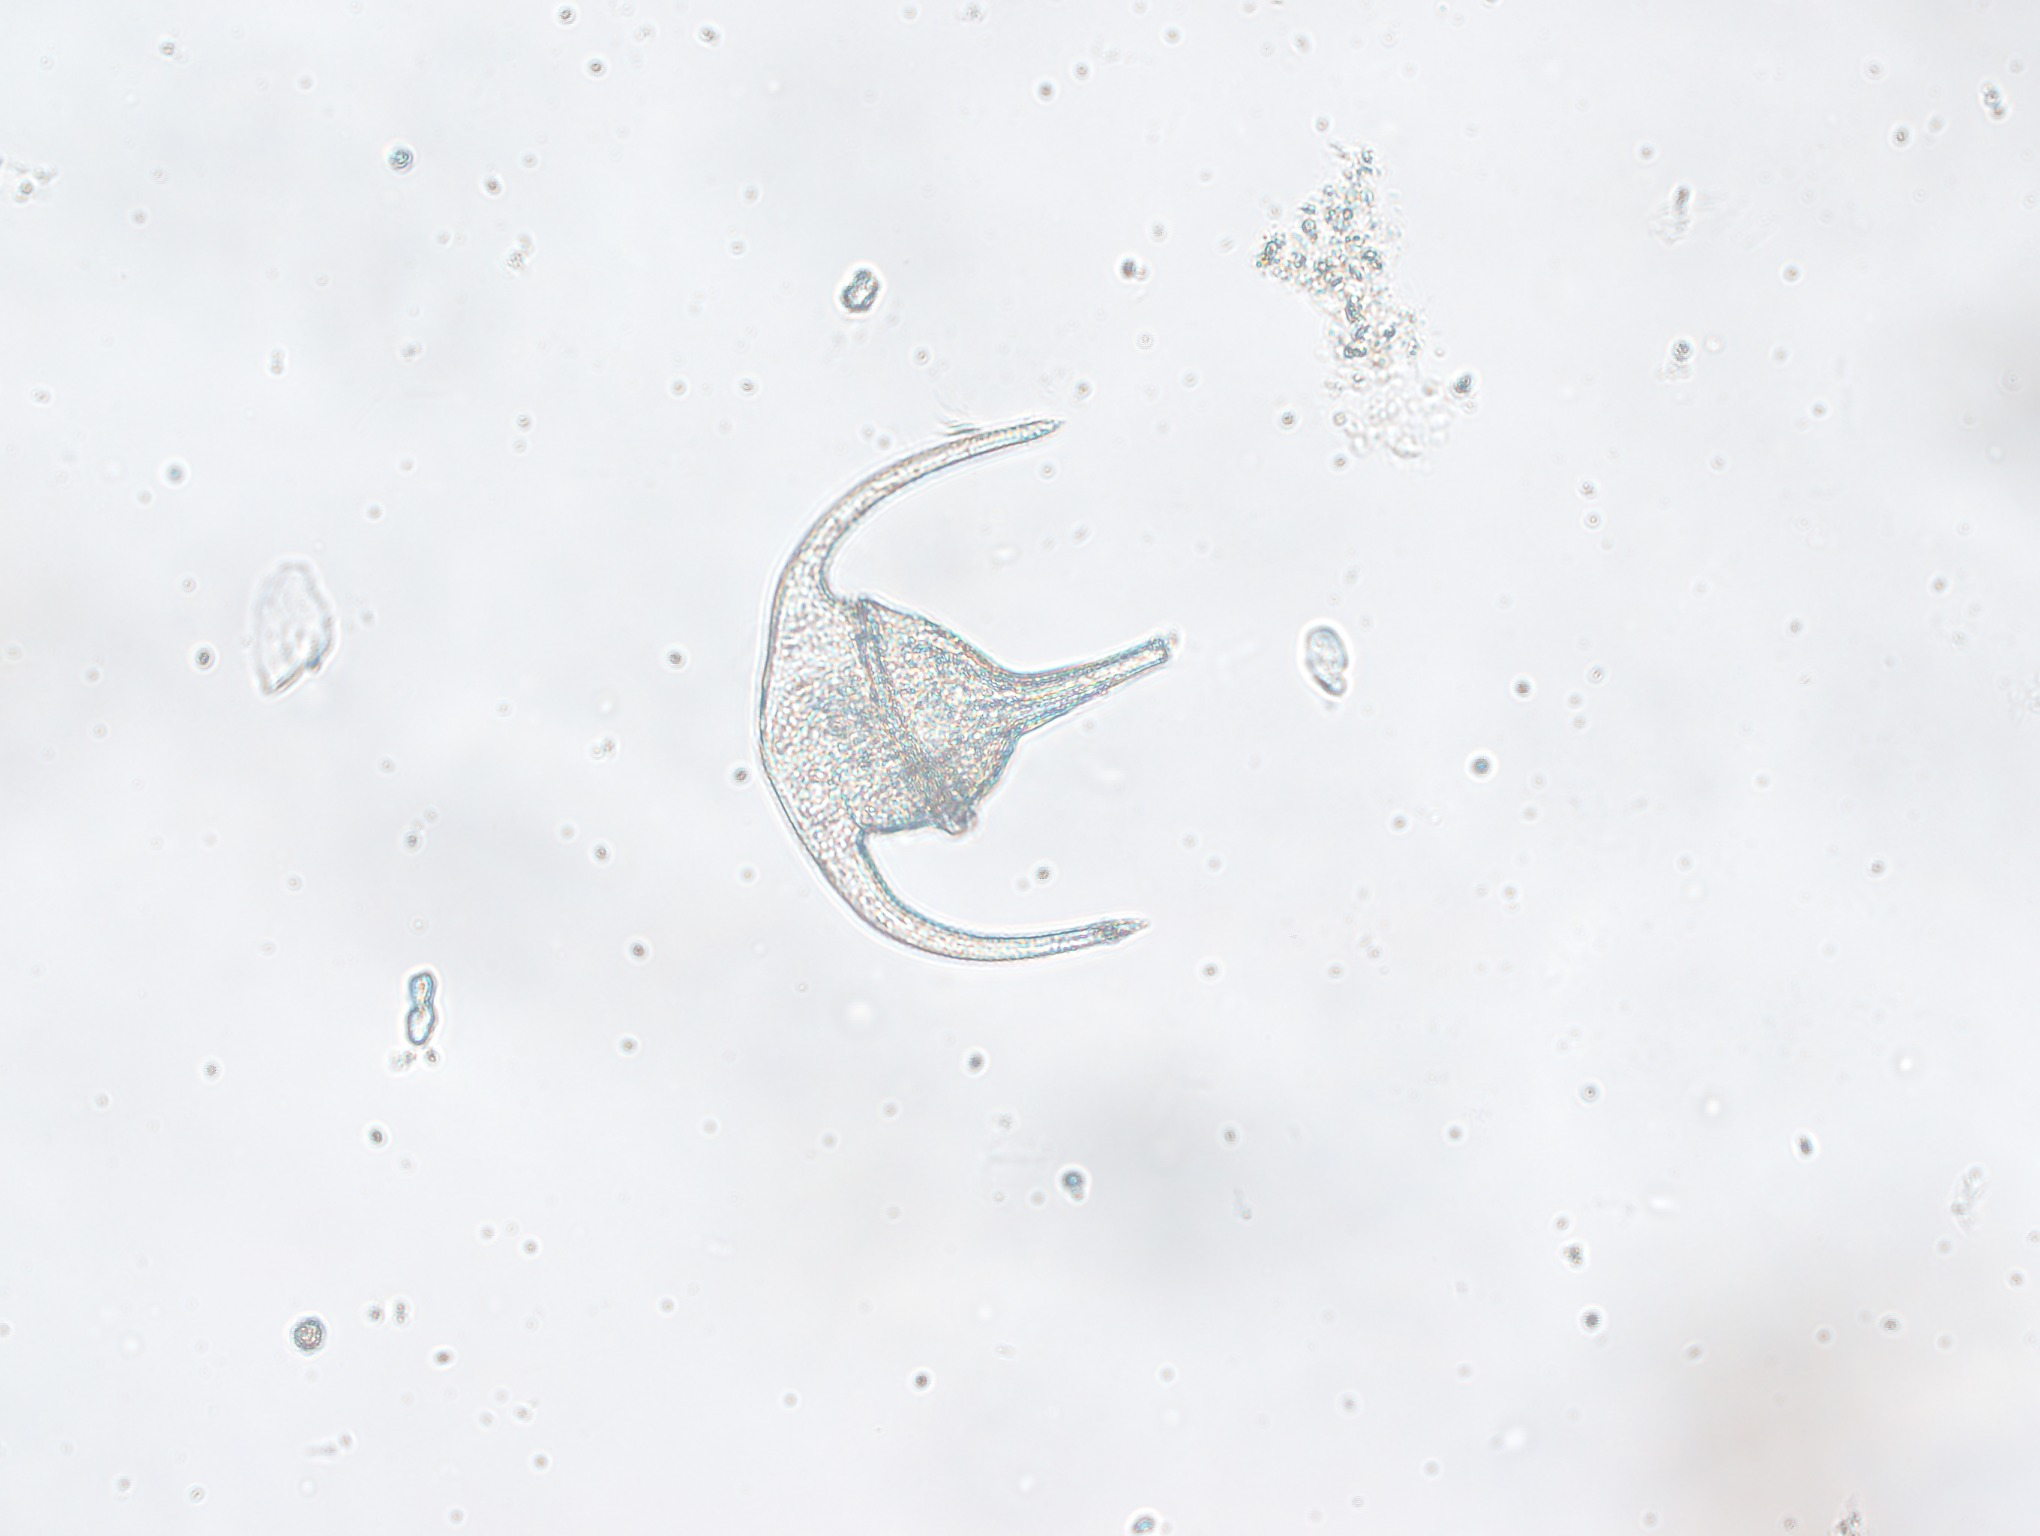ceratium tripos: (734, 419, 1171, 973)
